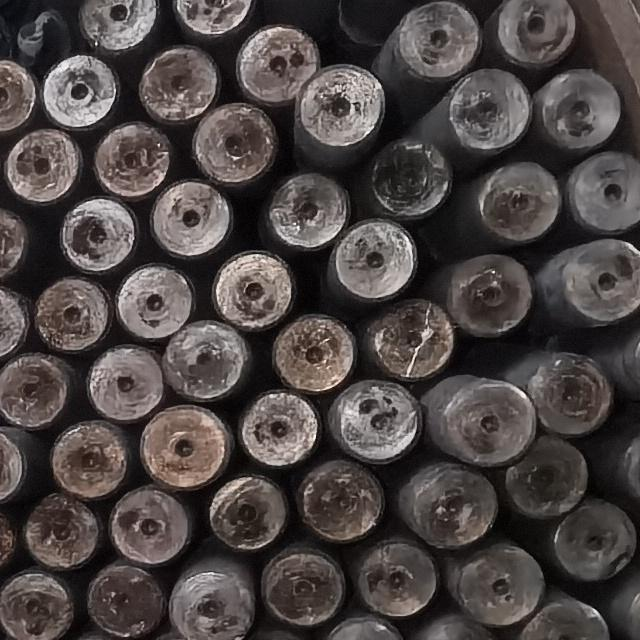tool: (444, 375, 535, 466), (404, 460, 496, 550), (294, 61, 391, 144), (447, 539, 542, 623), (360, 298, 457, 379), (548, 498, 640, 583), (293, 461, 386, 544), (350, 531, 444, 613), (252, 170, 347, 250), (140, 403, 231, 485), (449, 66, 532, 155), (163, 321, 252, 402), (473, 162, 563, 242), (527, 354, 613, 437), (189, 101, 276, 183), (205, 468, 289, 552), (337, 378, 422, 461), (132, 42, 220, 122), (78, 559, 167, 638), (538, 70, 622, 153), (504, 435, 588, 517), (260, 544, 344, 626), (212, 247, 295, 328), (238, 386, 322, 466), (272, 312, 358, 390), (560, 239, 640, 322), (151, 180, 235, 259), (398, 0, 479, 81), (107, 483, 188, 564), (83, 343, 166, 420), (335, 220, 415, 299), (19, 494, 101, 570), (372, 137, 450, 216), (48, 421, 128, 498), (1, 126, 79, 203), (93, 119, 170, 196), (58, 196, 136, 272), (115, 265, 193, 341), (33, 278, 110, 354), (455, 255, 531, 332), (491, 0, 576, 68), (42, 52, 119, 126), (569, 153, 640, 233), (170, 572, 252, 640), (240, 24, 315, 97), (0, 351, 72, 427), (506, 588, 611, 640), (0, 564, 71, 638), (586, 409, 640, 503), (78, 0, 160, 51), (0, 424, 48, 502), (171, 0, 251, 40), (0, 61, 38, 132), (405, 614, 502, 640), (312, 616, 404, 640)
tool_b: (8, 0, 76, 59)
